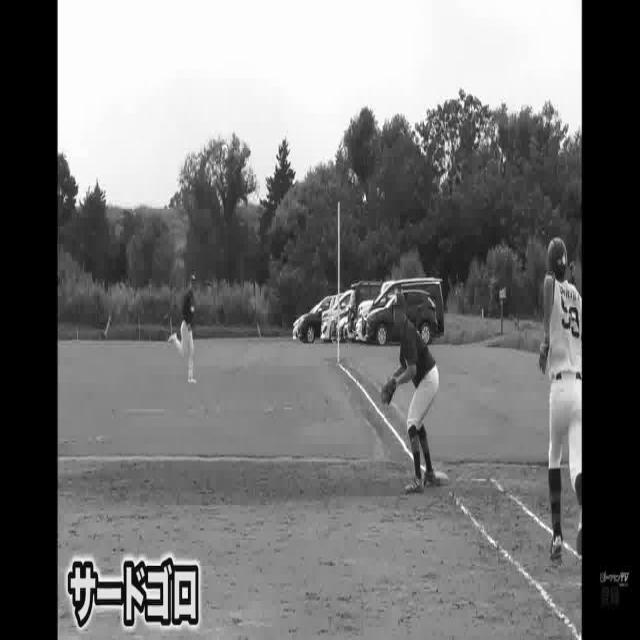base: (418, 469, 451, 487)
baseball_glove: (377, 377, 396, 408)
shoe: (546, 527, 567, 558), (404, 476, 426, 502), (577, 511, 586, 558), (422, 466, 438, 485)
